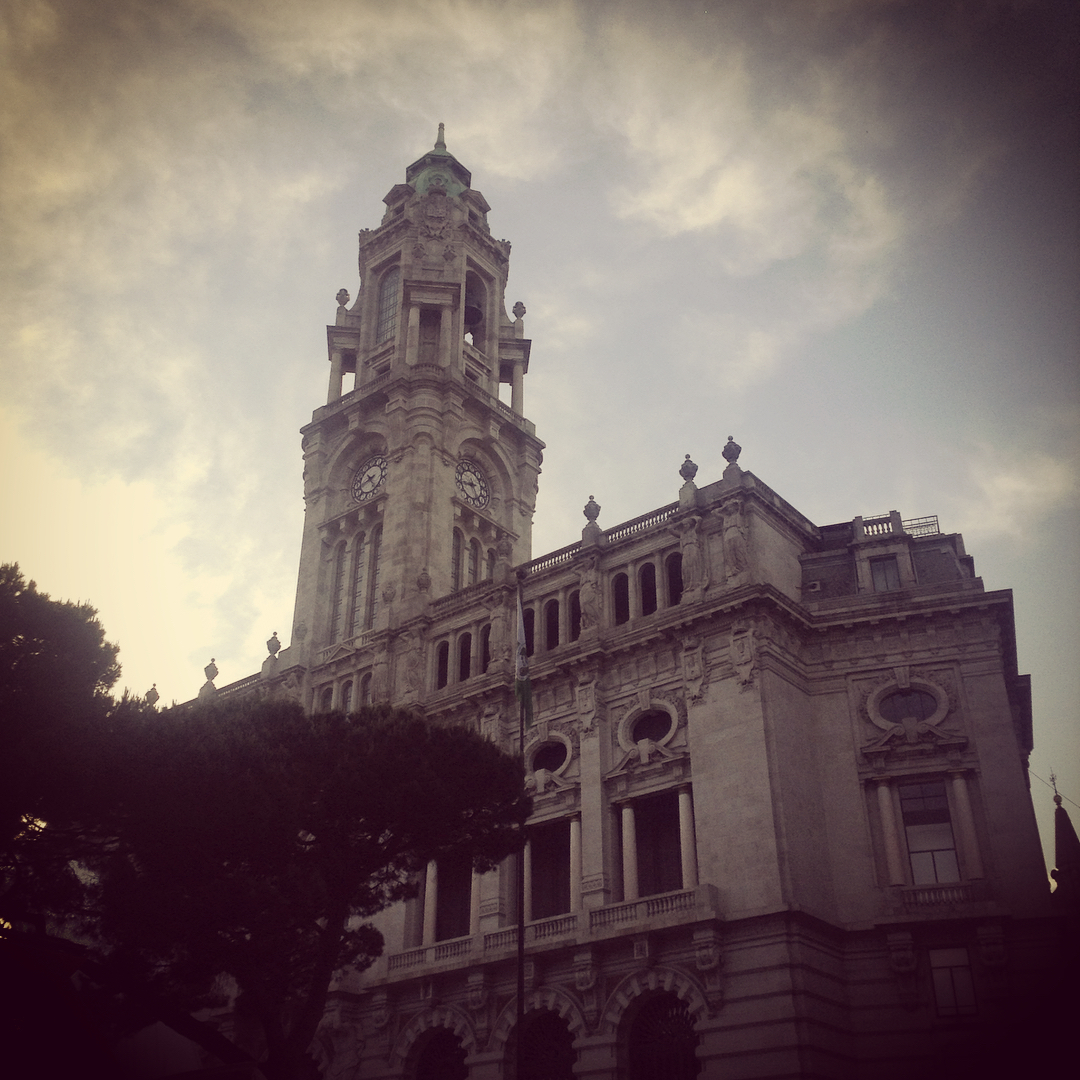camara: (134, 119, 1079, 1079)
